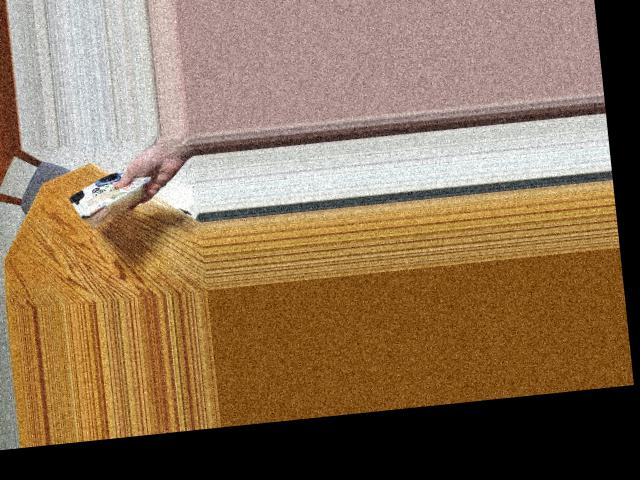cheese: (70, 157, 143, 228)
